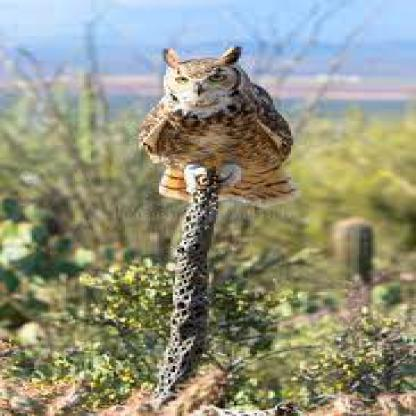owl: (118, 0, 414, 388)
